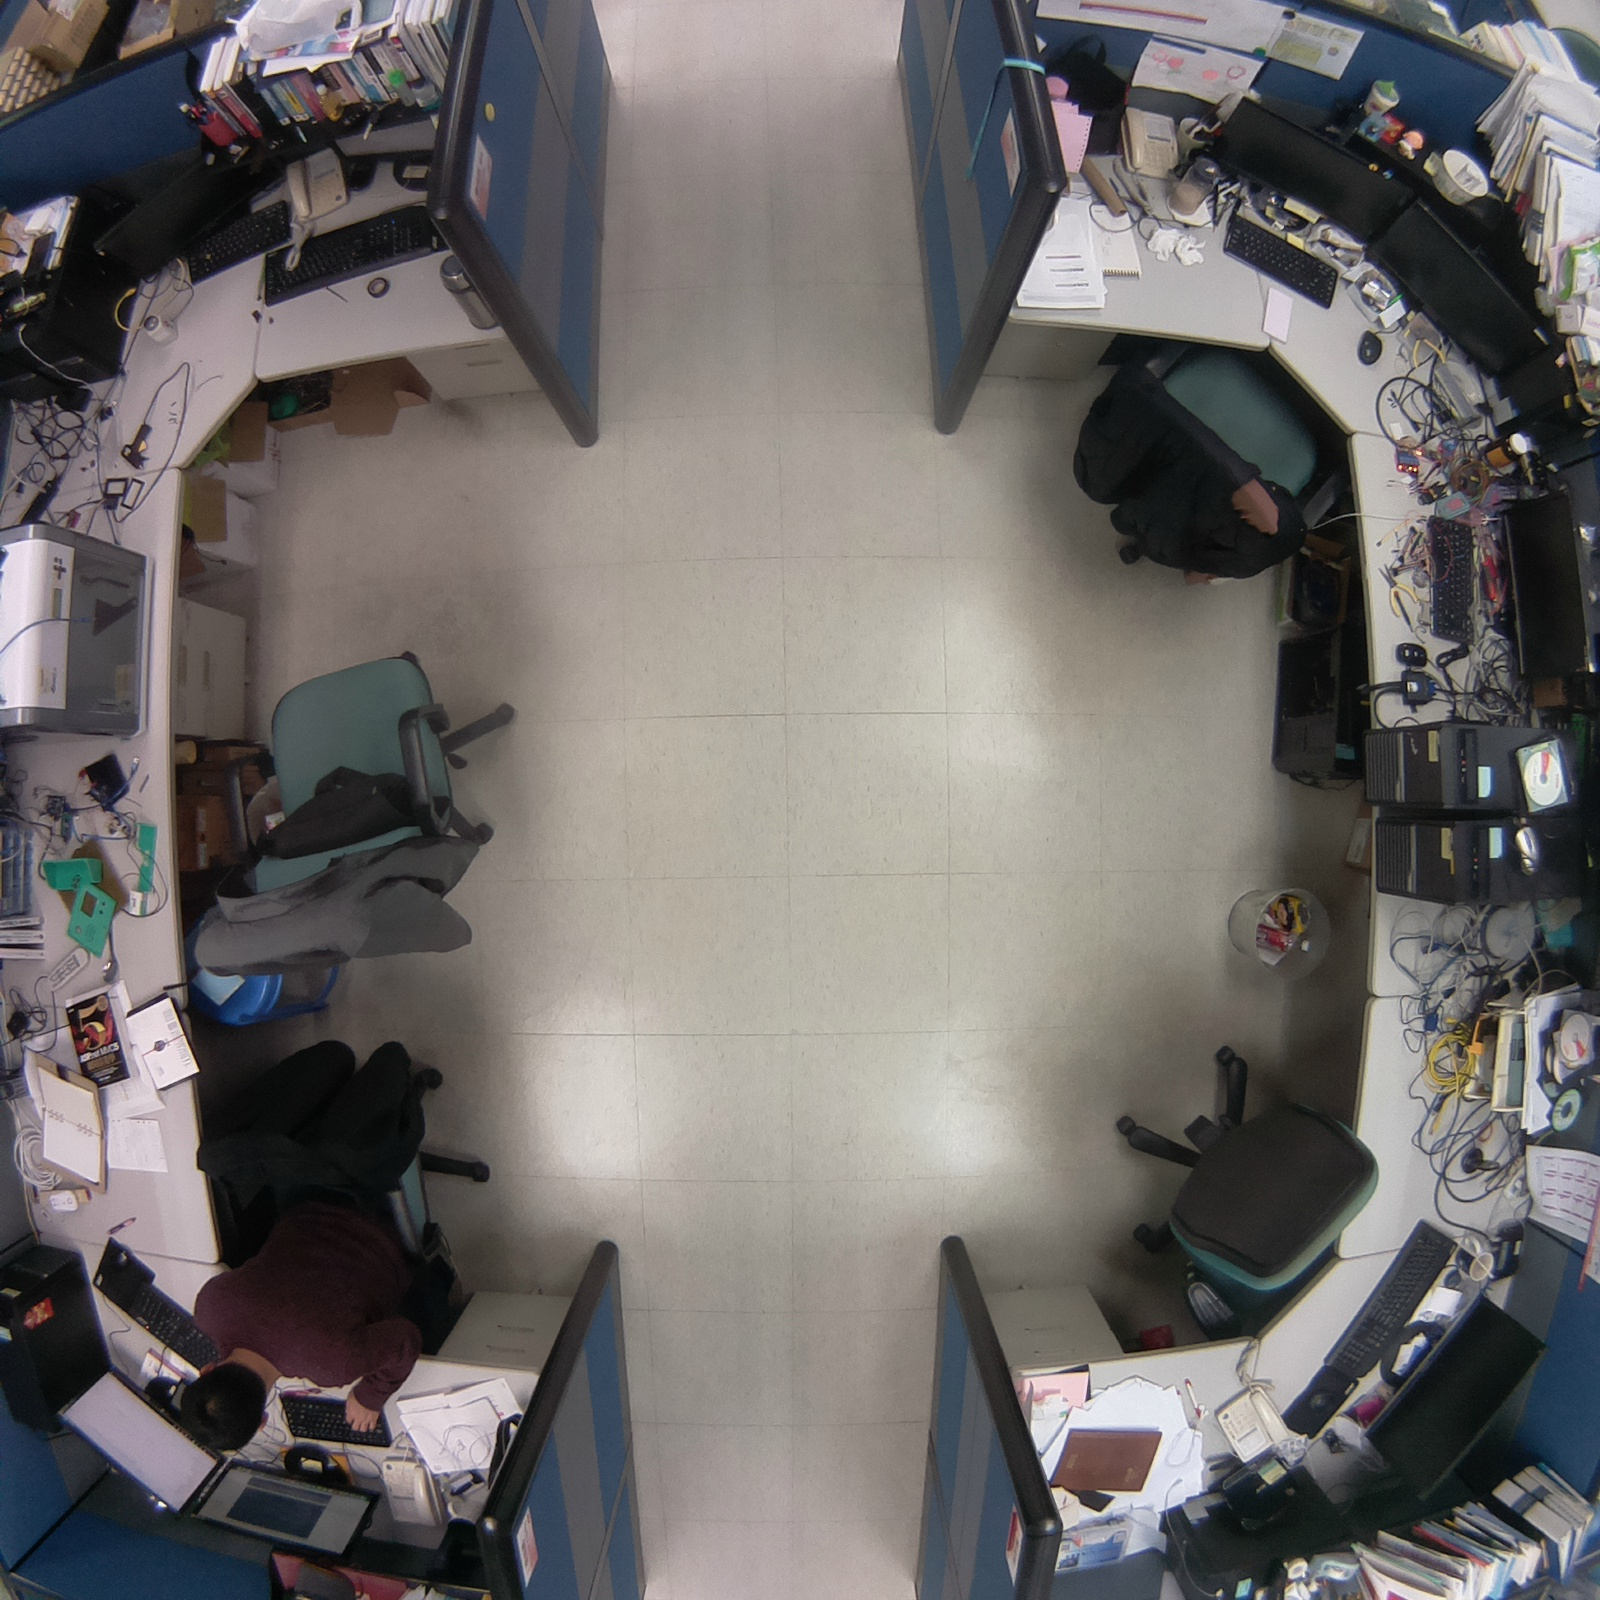chair: (168, 609, 547, 999), (1086, 1024, 1409, 1345), (1055, 324, 1360, 606)
head: (174, 1348, 274, 1461)
sitting: (163, 1027, 506, 1464)
